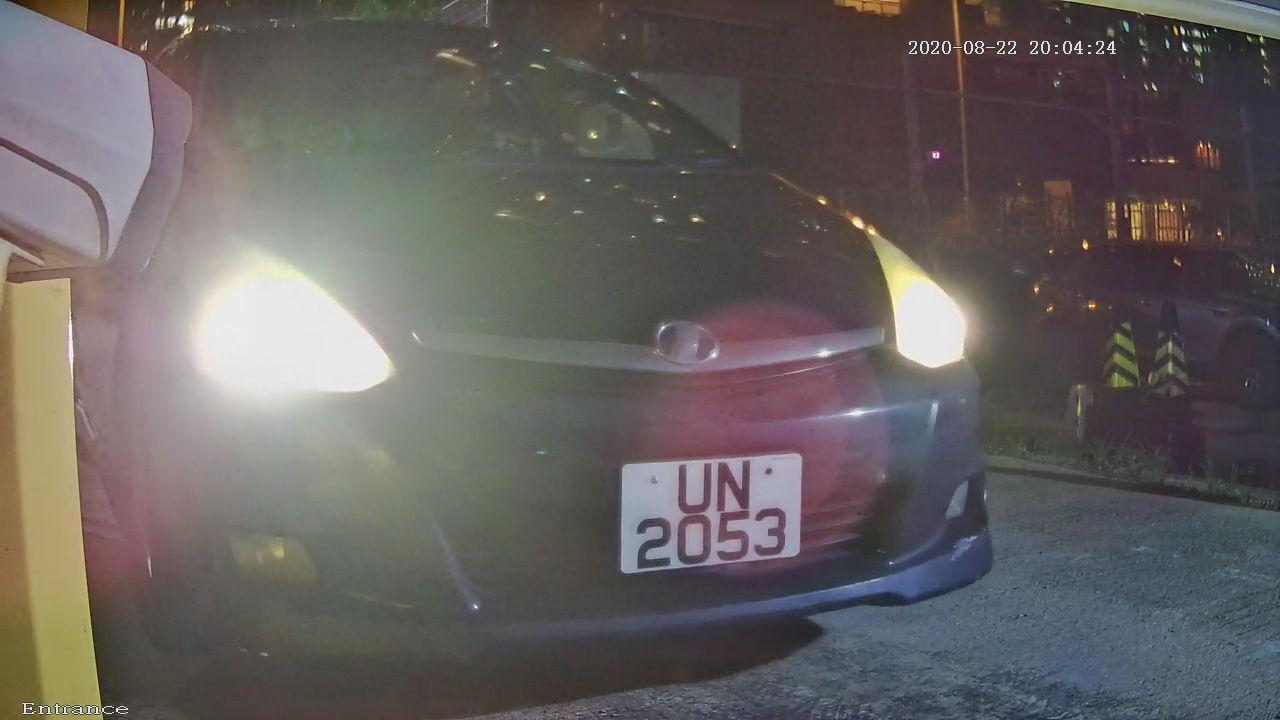License Plate: (595, 441, 818, 592)
